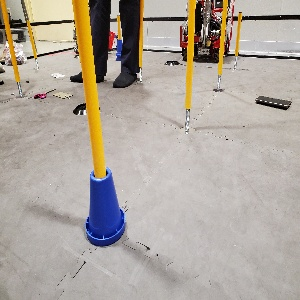Blue_1: (84, 167, 125, 244)
Blue_2: (115, 40, 124, 60)
